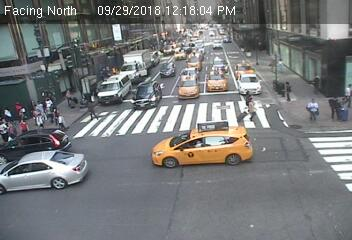car: (151, 120, 252, 168), (1, 152, 89, 192), (1, 127, 70, 158), (118, 47, 152, 80), (97, 72, 130, 104), (132, 80, 162, 111), (179, 73, 200, 99), (204, 66, 226, 90), (186, 51, 202, 70), (160, 62, 178, 76), (213, 56, 227, 72), (174, 46, 184, 59), (211, 39, 222, 50), (163, 42, 173, 54), (195, 39, 207, 47), (223, 33, 233, 42), (206, 29, 215, 37)
